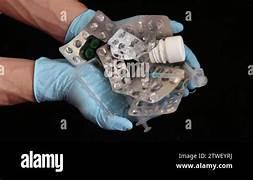Glove: (34, 57, 131, 130), (65, 9, 95, 41)
